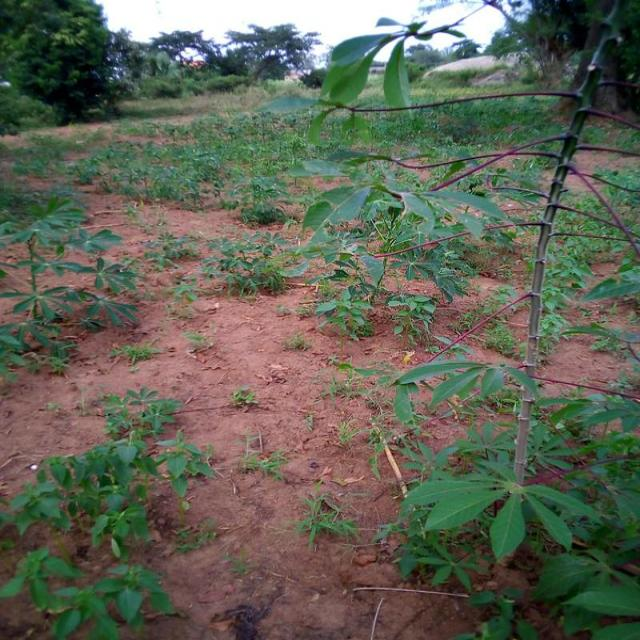cassava leaf: (382, 36, 412, 114)
